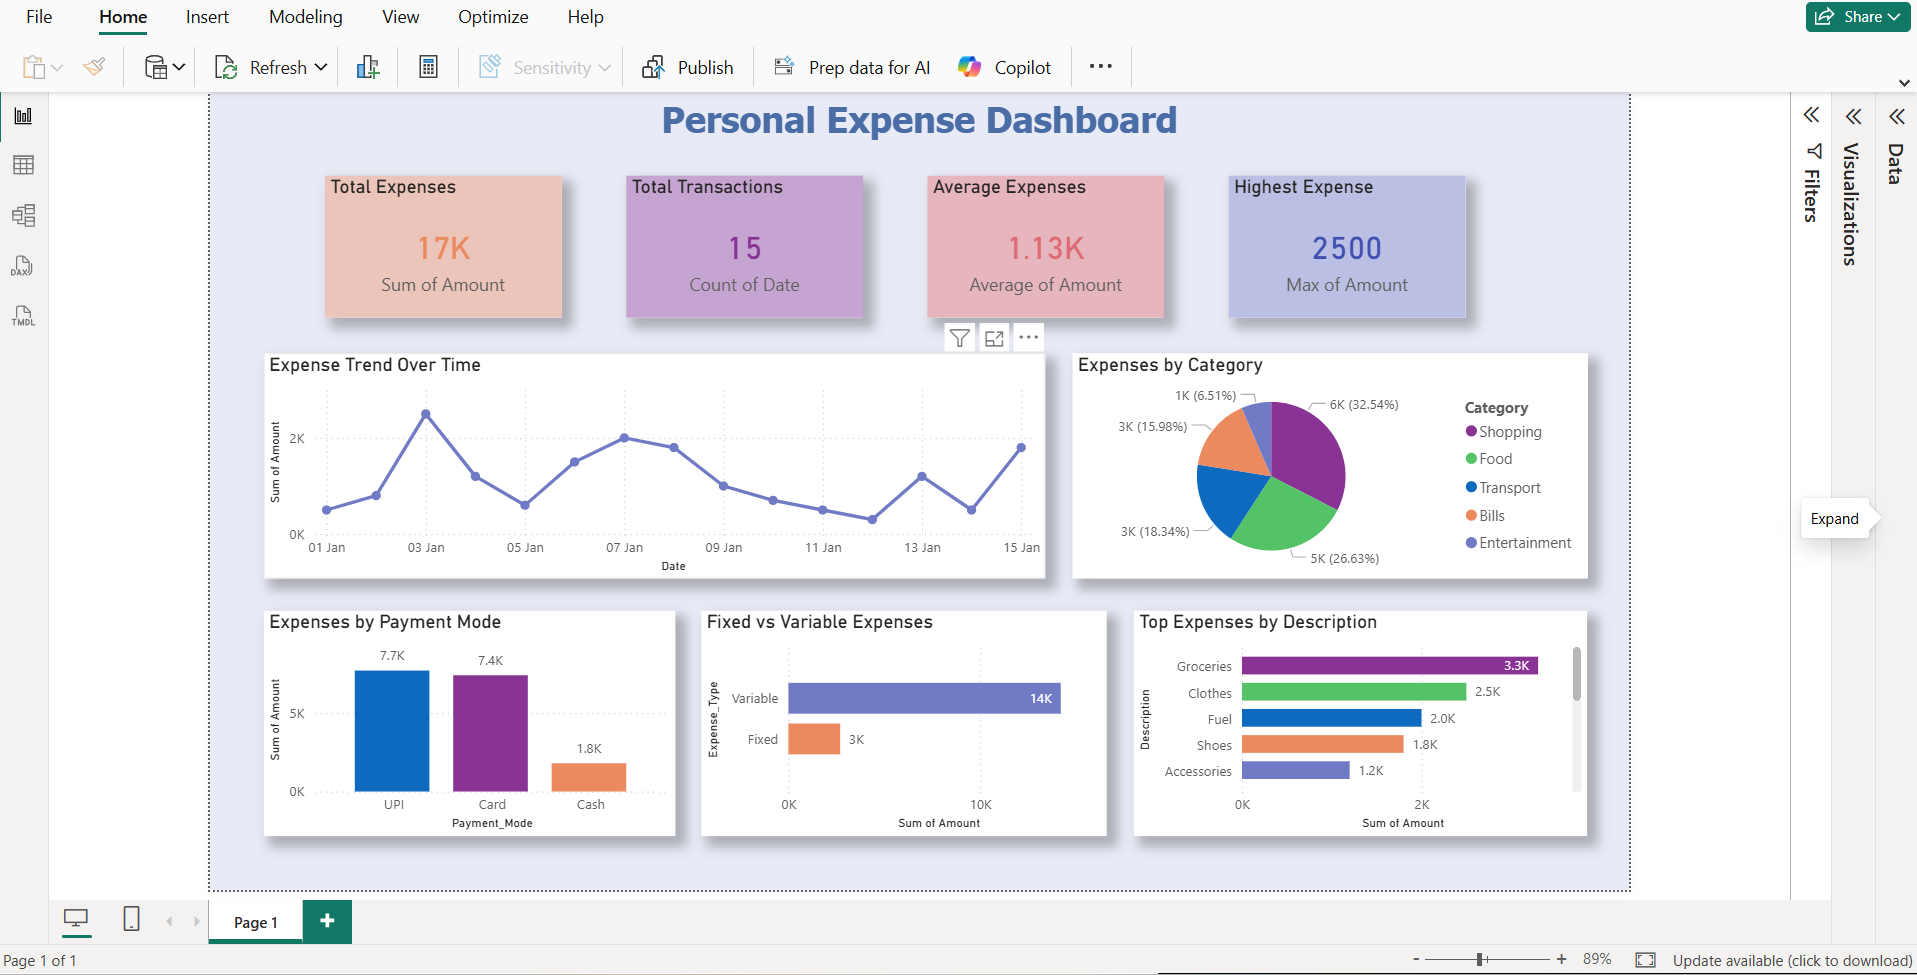

The page's visual inventory and layout, read from the dashboard file:
{"tool":"powerbi","page":{"name":"Page 1","canvas":[1280,720],"ordinal":0},"visuals":[{"type":"textbox","box":[309.9,0,659.8,56.1],"z":0},{"type":"card","title":"Total Expenses","fields":{"Values":["Sum(Table.Amount)"]},"box":[103.6,75.9,213.7,128.2],"z":1000},{"type":"card","title":"Total Transactions","fields":{"Values":["Count(Table.Date)"]},"box":[375.2,75.9,213.7,128.2],"z":2000},{"type":"card","title":"Average Expenses","fields":{"Values":["Avg(Table.Amount)"]},"box":[646.8,75.9,213.7,128.2],"z":3000},{"type":"card","title":"Highest Expense","fields":{"Values":["Max(Table.Amount)"]},"box":[918.4,75.9,213.7,128.2],"z":4000},{"type":"lineChart","title":"Expense Trend Over Time","fields":{"Category":["Table.Date"],"Y":["Sum(Table.Amount)"]},"box":[48.1,235.1,705.2,203],"z":5000},{"type":"pieChart","title":"Expenses by Category","fields":{"Category":["Table.Category"],"Y":["Sum(Table.Amount)"]},"box":[777.3,235.1,464.8,203],"z":6000},{"type":"clusteredColumnChart","title":"Expenses by Payment Mode","fields":{"Category":["Table.Payment_Mode"],"Y":["Sum(Table.Amount)"]},"box":[48.1,467.5,371.3,203],"z":7000},{"type":"clusteredBarChart","title":"Fixed vs Variable Expenses","fields":{"Category":["Table.Expense_Type"],"Y":["Sum(Table.Amount)"]},"box":[443.4,467.5,366,203],"z":8000},{"type":"clusteredBarChart","title":"Top Expenses by Description","fields":{"Category":["Table.Description"],"Y":["Sum(Table.Amount)"]},"box":[833.4,467.5,408.7,203],"z":9000}]}

Visuals, with their boxes on the page's 1280x720 design canvas (x1, y1, x2, y2). These are canvas units, not pixel positions in the 1917x975 screenshot, which may show the page scaled, cropped or inside an application window:
textbox: [x1=310, y1=0, x2=970, y2=56]
"Total Expenses" card: [x1=104, y1=76, x2=317, y2=204]
"Total Transactions" card: [x1=375, y1=76, x2=589, y2=204]
"Average Expenses" card: [x1=647, y1=76, x2=860, y2=204]
"Highest Expense" card: [x1=918, y1=76, x2=1132, y2=204]
"Expense Trend Over Time" lineChart: [x1=48, y1=235, x2=753, y2=438]
"Expenses by Category" pieChart: [x1=777, y1=235, x2=1242, y2=438]
"Expenses by Payment Mode" clusteredColumnChart: [x1=48, y1=468, x2=419, y2=670]
"Fixed vs Variable Expenses" clusteredBarChart: [x1=443, y1=468, x2=809, y2=670]
"Top Expenses by Description" clusteredBarChart: [x1=833, y1=468, x2=1242, y2=670]
